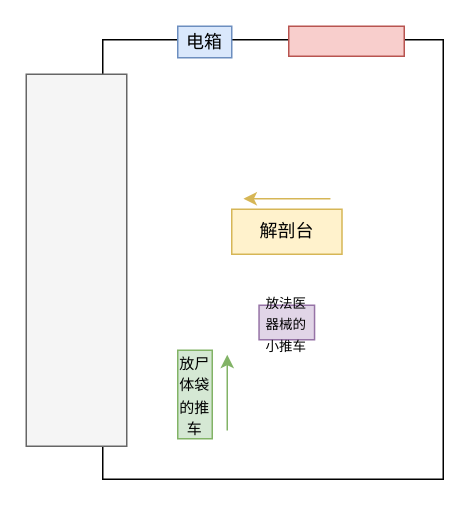
The diagram is 470 pixels wide and 506 high, and some of its shapes have lost their labels. Here are the shapes that lost their labels. From the top down, the box of each, then its label:
(287, 25, 404, 56): 大门
(25, 73, 127, 446): 冷柜/尸体柜
